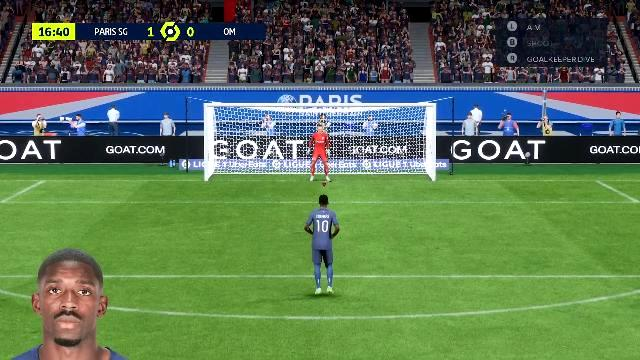bottom-left: (210, 149, 284, 183)
bottom-right: (354, 148, 432, 182)
center-down: (286, 148, 354, 182)
center-up: (285, 107, 353, 147)
goalkeeper: (303, 124, 335, 182)
player: (300, 194, 346, 296)
top-left: (210, 107, 284, 147)
top-right: (354, 108, 432, 146)
